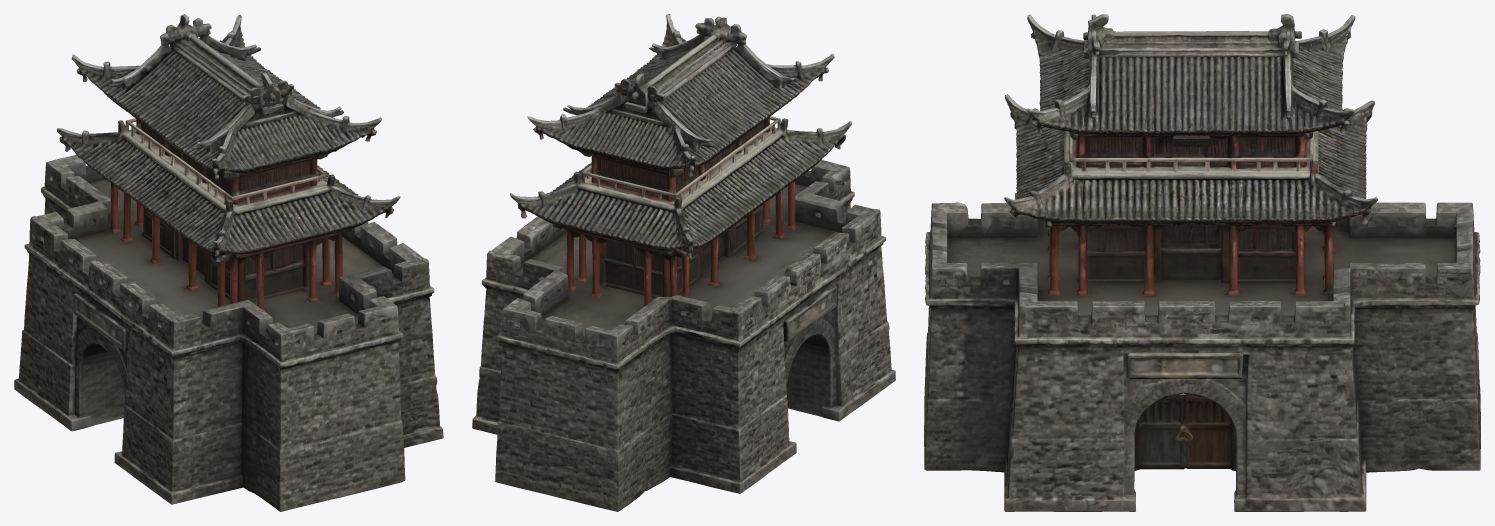
Rendered from gate-high.glb.
The picture shows the model from 3 angles, left to right: view 1: azimuth 30°, elevation 25°; view 2: azimuth 150°, elevation 25°; view 3: azimuth 270°, elevation 25°; orthographic projection. The views are drawn at different scales.
Bounding box in the file's own units: 0.6493 × 0.8353 × 0.9999.
1 material, 1 textured.
